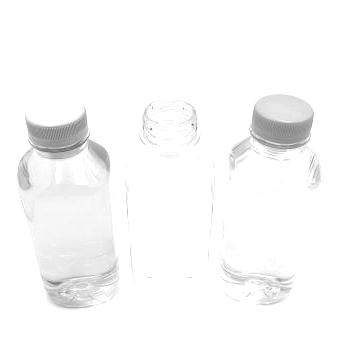bottle: (17, 96, 120, 309), (218, 97, 320, 304), (127, 101, 214, 305)
